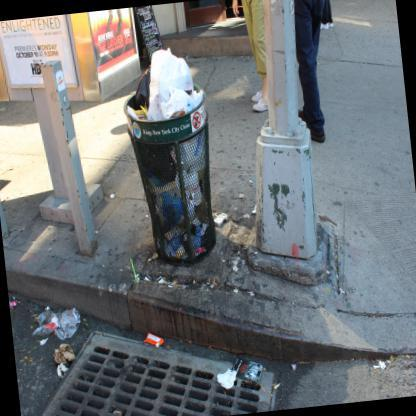Garbage: (137, 46, 206, 112), (134, 66, 198, 119)
